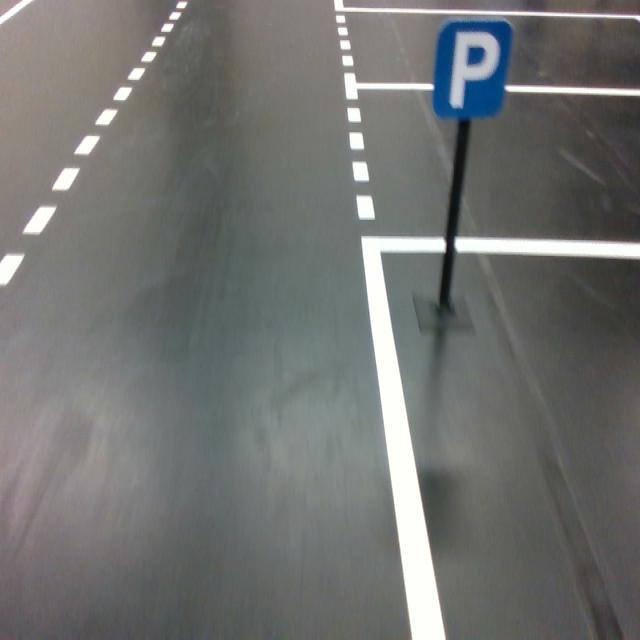parking-sign: (430, 18, 514, 122)
